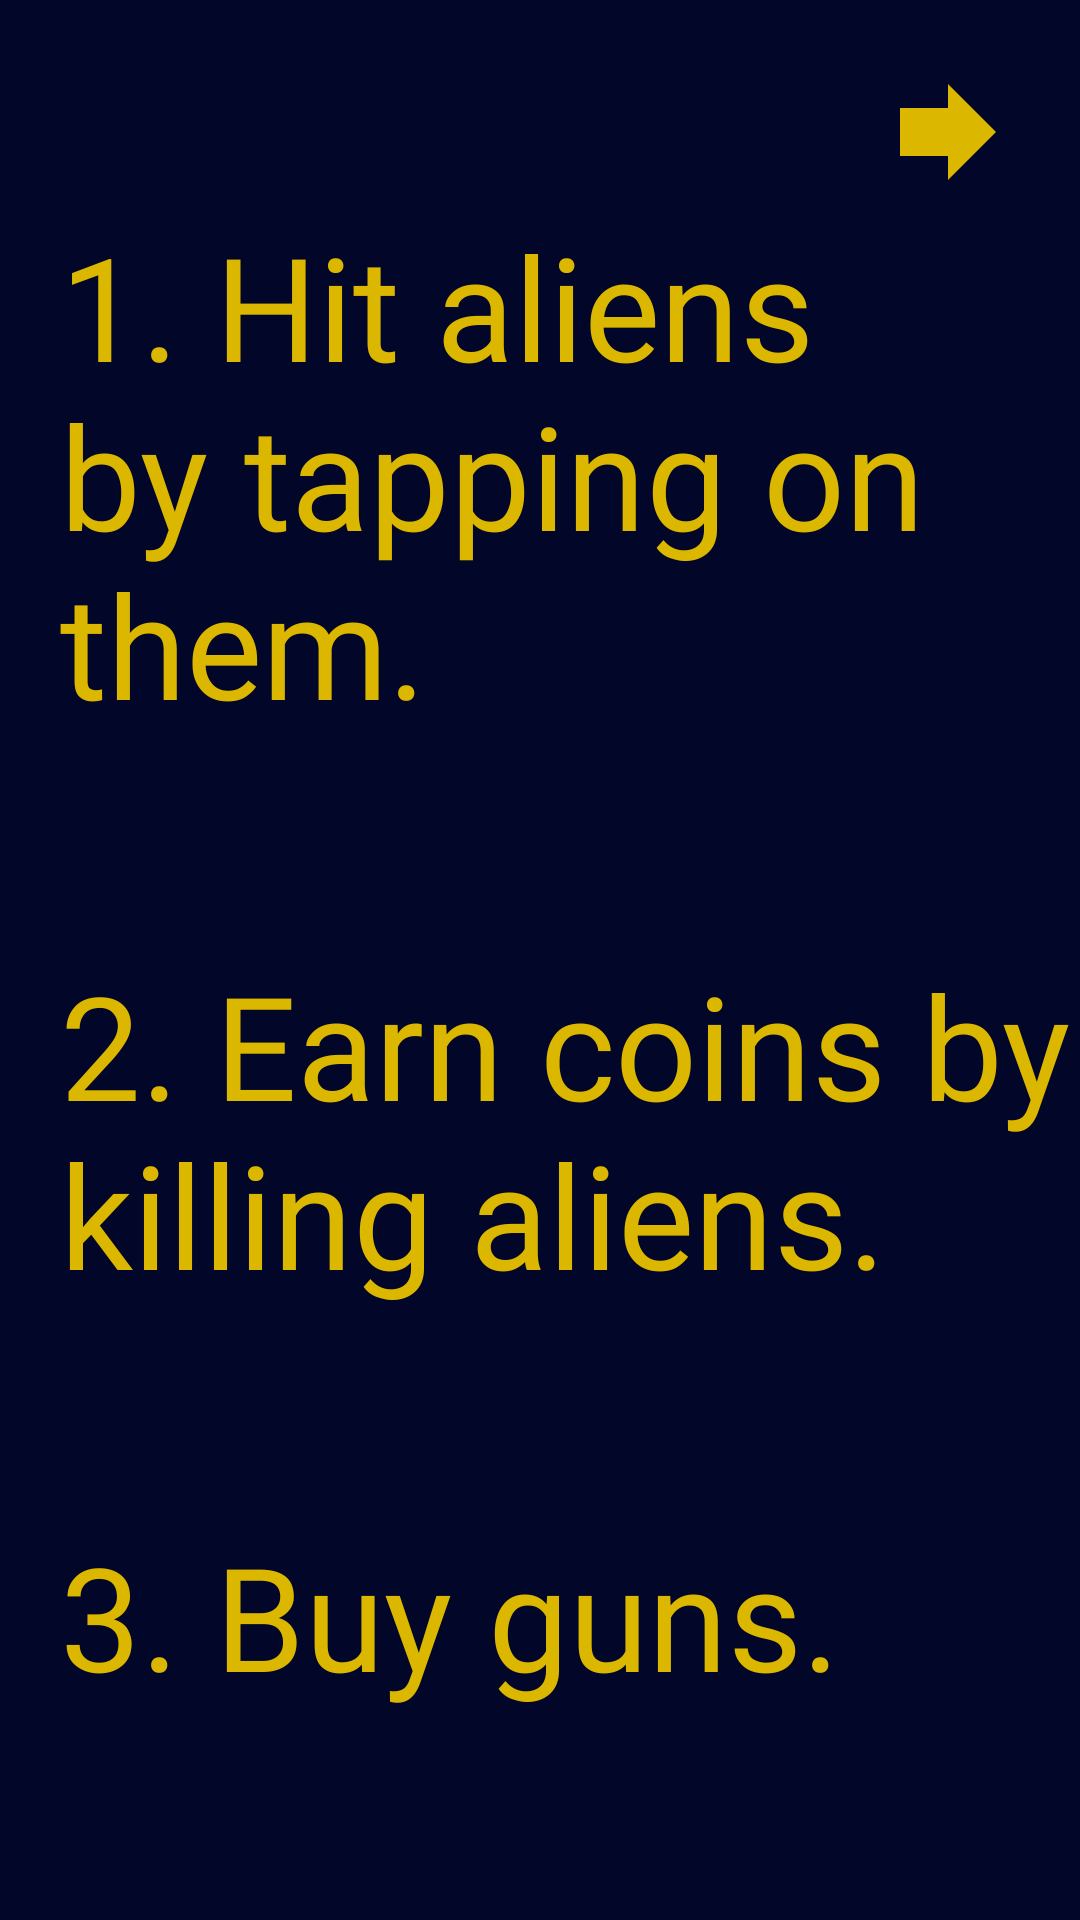

Named icons in this screenshot (1080 × 1920) and their bounding boxes, (x1, y1, x2, y2):
arrow forward: (900, 84, 996, 180)
